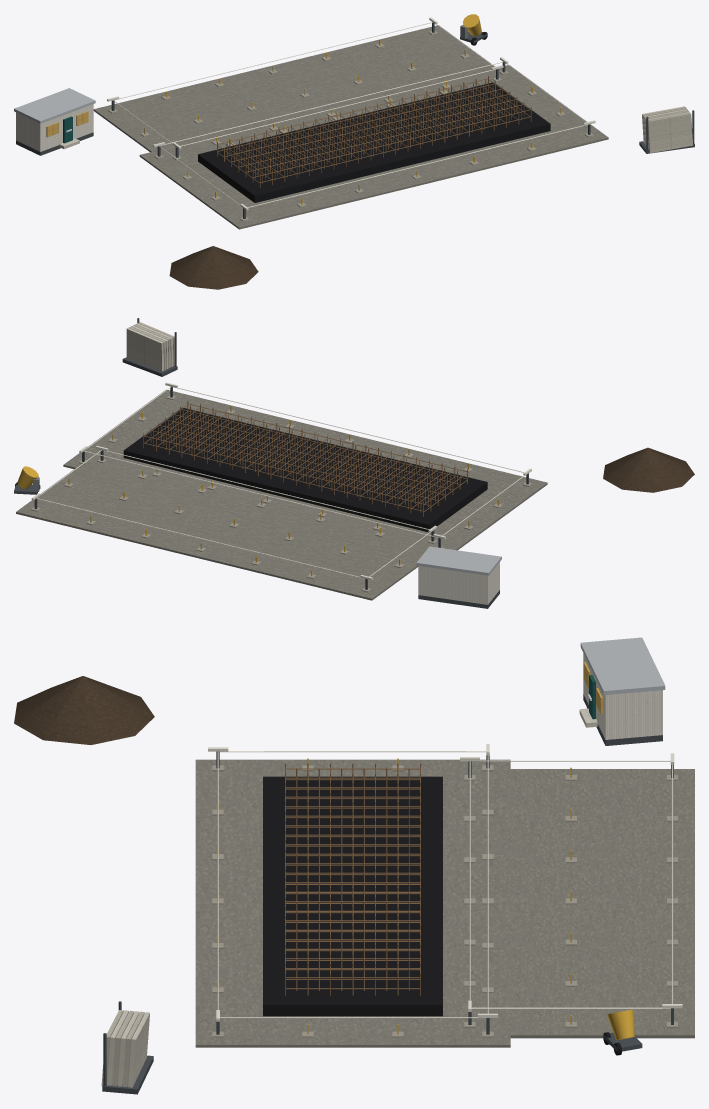
Rendered from fun-10-site.glb.
3 views of the same model, one above another, from view 1: azimuth 30°, elevation 25°; view 2: azimuth 150°, elevation 25°; view 3: azimuth 270°, elevation 25° (orthographic). The views are drawn at different scales.
Size of the model in its own units: 43.03 by 3.25 by 30.27.
Materials: 16 (7 with a texture image).
